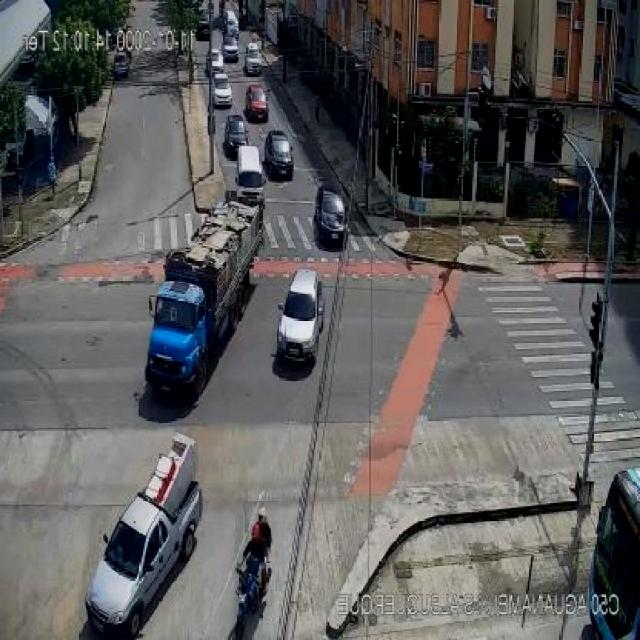Bus: (578, 460, 640, 640)
Car: (85, 436, 199, 637), (270, 254, 335, 382), (314, 187, 347, 248), (264, 130, 294, 179), (223, 115, 249, 155), (244, 85, 269, 122), (212, 74, 233, 108), (244, 42, 263, 75), (114, 52, 130, 79), (208, 49, 224, 74), (222, 39, 239, 62), (196, 18, 210, 41)
Cycle: (231, 501, 283, 622)
Truck: (131, 192, 268, 408)
Van: (236, 146, 266, 202), (223, 10, 238, 38)
